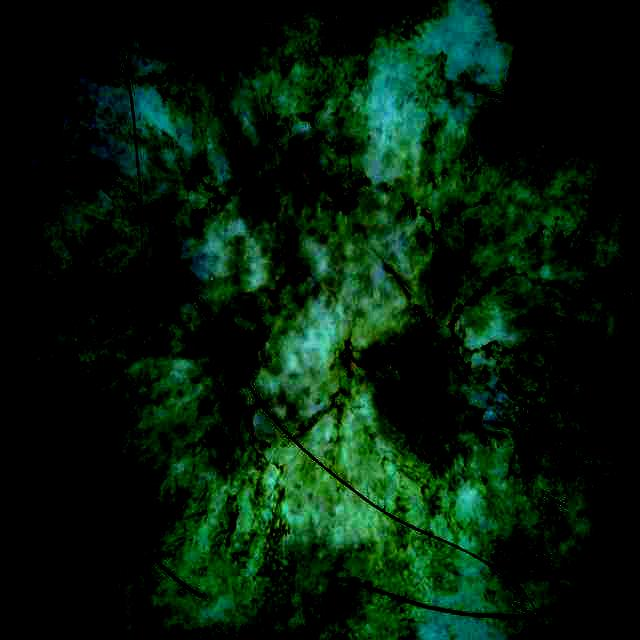BKL: (151, 91, 497, 528)
